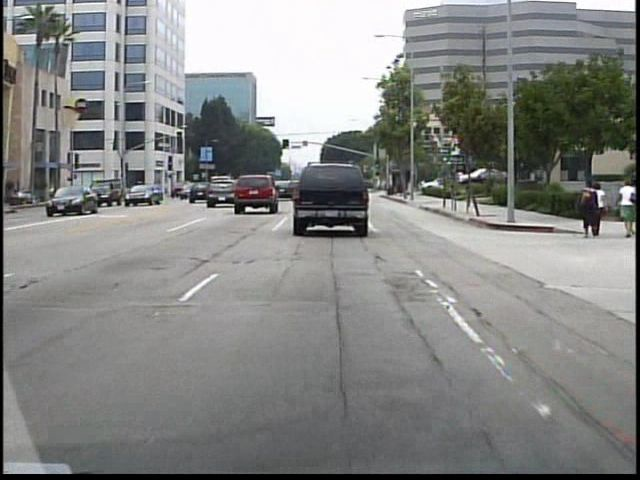person: (614, 173, 634, 235), (580, 177, 598, 240), (594, 181, 607, 236)
